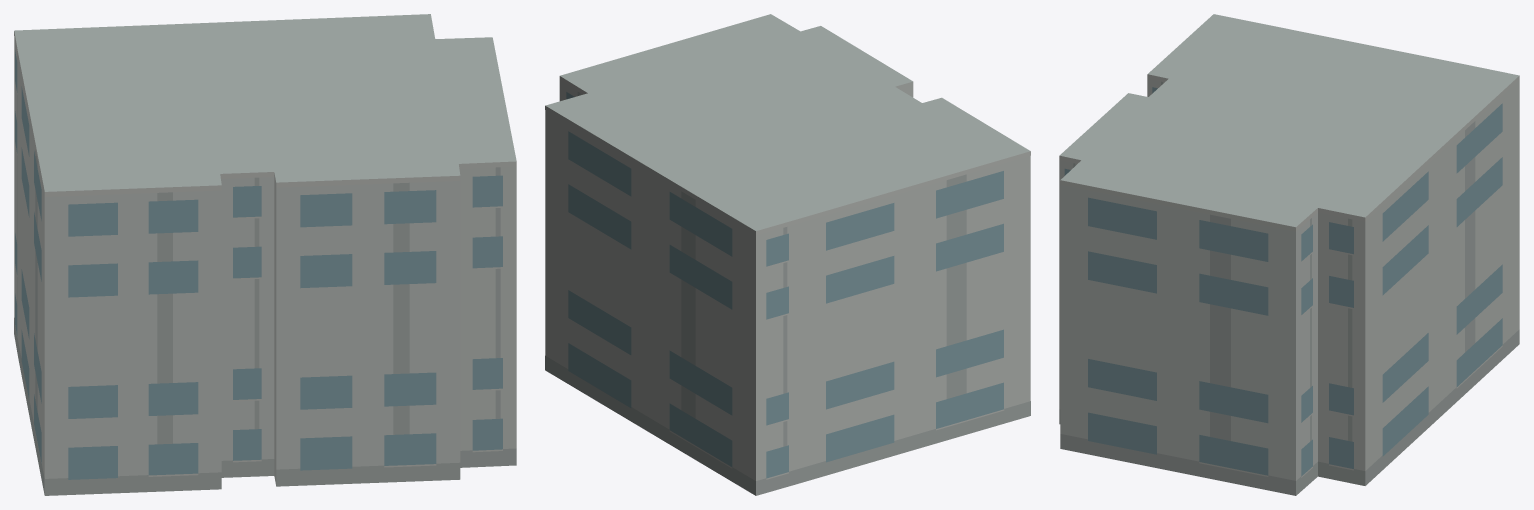
File: survey-upis-32725011.glb
3 views of the same model, side by side, from view 1: azimuth 30°, elevation 25°; view 2: azimuth 150°, elevation 25°; view 3: azimuth 270°, elevation 25° (orthographic). The views are drawn at different scales.
Visible parts, largest first — view 1: survey-upis-32725011.tmp; view 2: survey-upis-32725011.tmp; view 3: survey-upis-32725011.tmp.
Part boxes in pixels (x1,y1,x2,y2): survey-upis-32725011.tmp: (14,14,516,495); survey-upis-32725011.tmp: (545,14,1030,495); survey-upis-32725011.tmp: (1059,14,1519,495).
Bounding box in the file's own units: 24.44 × 14.35 × 22.29.
